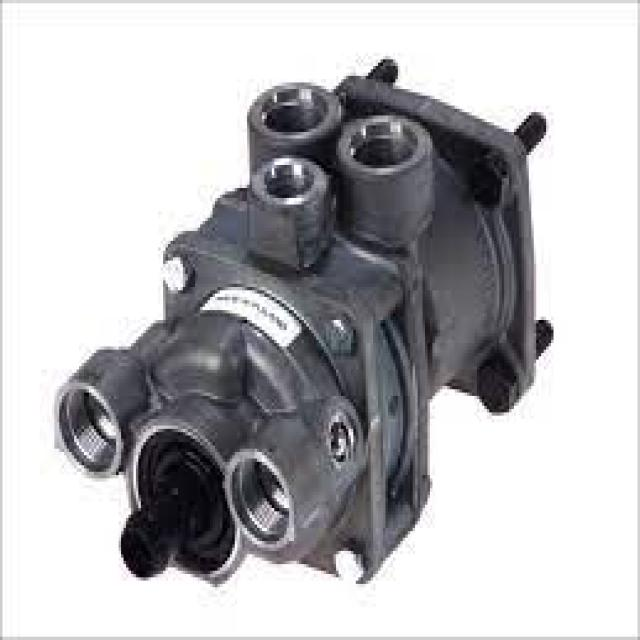video_frame: (52, 53, 556, 594)
